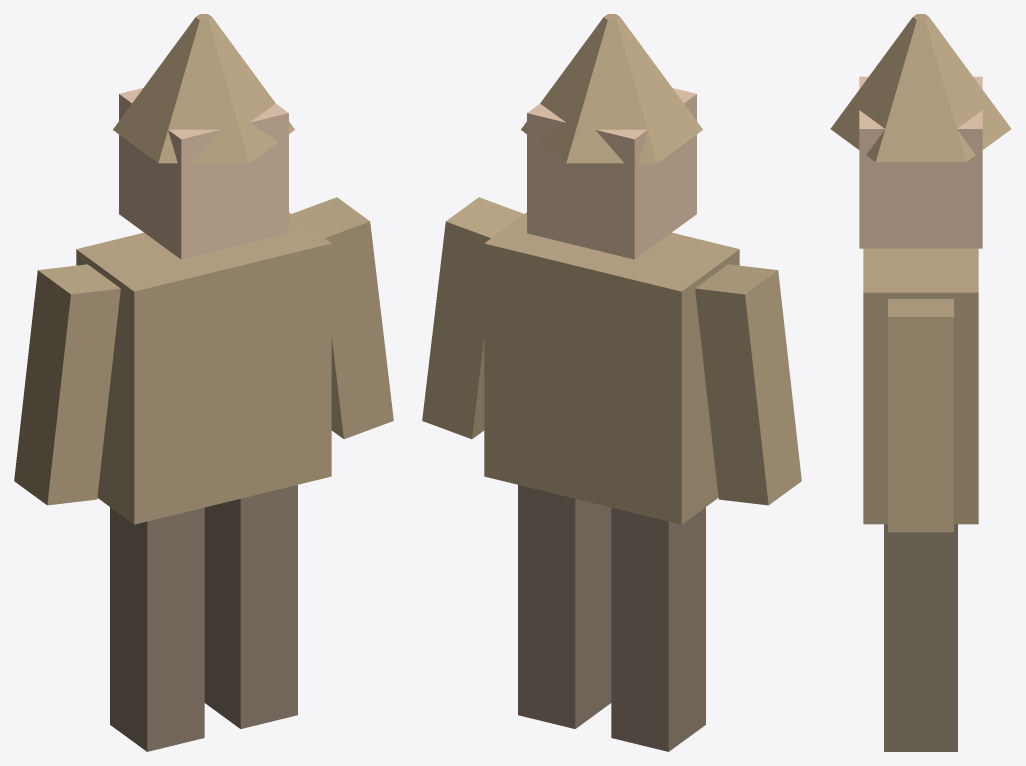
File: Villager.fbx
3 renders of one model, left to right at view 1: azimuth 30°, elevation 25°; view 2: azimuth 150°, elevation 25°; view 3: azimuth 270°, elevation 25°, orthographic.
Parts seen in each view (by area): view 1: Torso, LegL, LegR, ArmL, Head, Hood, ArmR; view 2: Torso, LegL, LegR, ArmL, Head, Hood, ArmR; view 3: Torso, LegR, ArmR, Hood, Head.
Part boxes in pixels (x1,y1,x2,y2): Torso: (76,212,331,524); LegL: (110,507,204,751); LegR: (204,485,297,728); ArmL: (14,264,120,505); Head: (119,88,288,259); Hood: (113,14,294,163); ArmR: (292,197,393,439); Torso: (484,212,739,524); LegL: (611,507,705,751); LegR: (518,485,611,728); ArmL: (695,264,801,505); Head: (527,88,696,259); Hood: (521,14,702,163); ArmR: (422,197,523,439); Torso: (863,248,978,524); LegR: (884,524,957,751); ArmR: (888,299,953,532); Hood: (830,14,1011,162); Head: (859,76,982,248).
Bounding box in the file's own units: 96.48 × 187 × 44.
